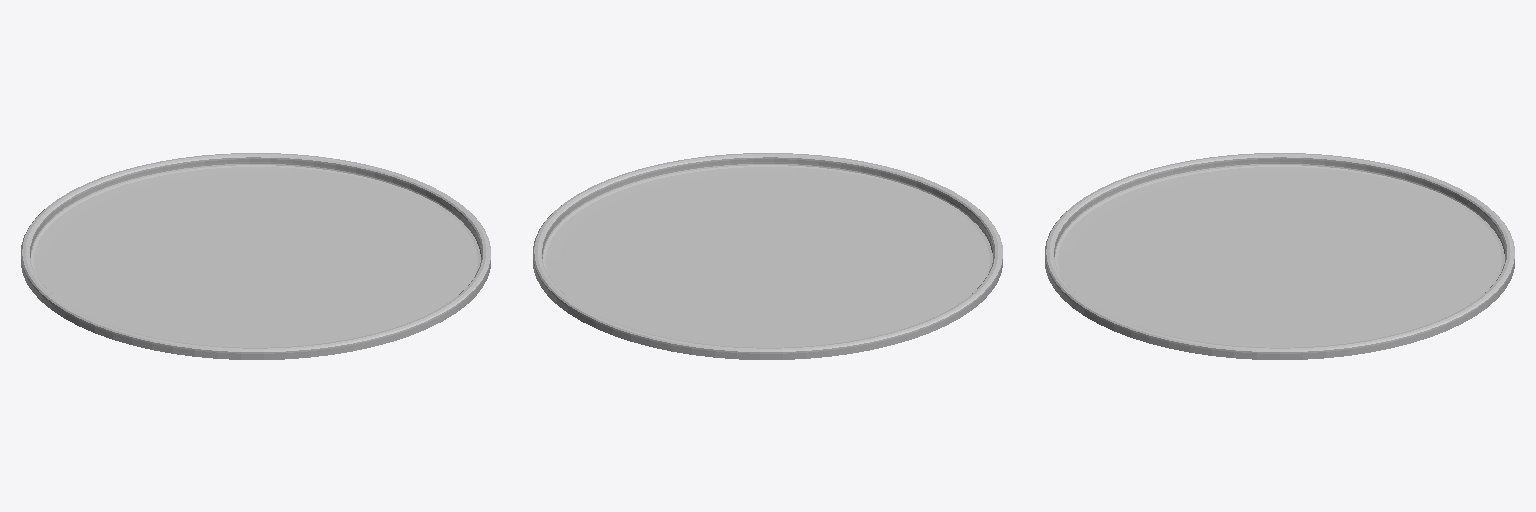
The model's file is plate.obj.
3 views of the same model, side by side, from view 1: azimuth 30°, elevation 25°; view 2: azimuth 150°, elevation 25°; view 3: azimuth 270°, elevation 25° (orthographic).
Parts seen in each view (by area): view 1: Circle; view 2: Circle; view 3: Circle.
Boxes of the visible parts, <box> form: Circle: <box>21,153,490,359</box>; Circle: <box>533,153,1002,359</box>; Circle: <box>1045,153,1514,359</box>.
Bounding box in the file's own units: 9.03 × 0.2021 × 9.03.